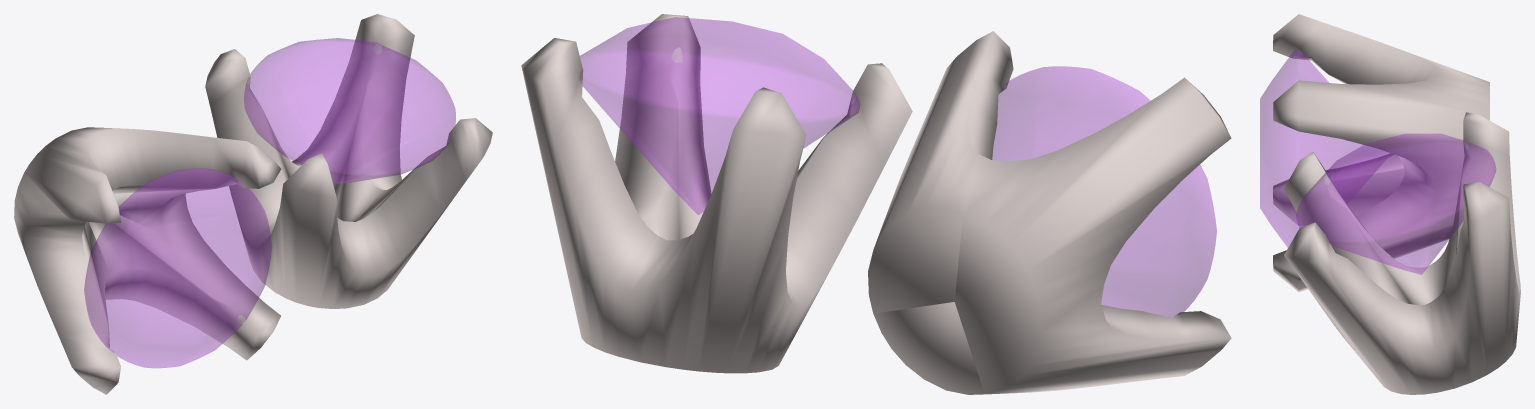
File: amethyst-earring.glb
3 renders of one model, left to right at view 1: azimuth 30°, elevation 25°; view 2: azimuth 150°, elevation 25°; view 3: azimuth 270°, elevation 25°, orthographic. The views are drawn at different scales.
Visible parts, largest first — view 1: stevenuntitled.002, stevenuntitled.001, cruz.022, cruz.023; view 2: stevenuntitled.001, stevenuntitled.002, cruz.023, cruz.022; view 3: stevenuntitled.001, stevenuntitled.002, cruz.023, cruz.022.
Part boxes in pixels (x1,y1,x2,y2): stevenuntitled.002: (14,127,281,394); stevenuntitled.001: (205,14,492,308); cruz.022: (84,168,271,367); cruz.023: (244,38,455,183); stevenuntitled.001: (521,14,912,373); stevenuntitled.002: (868,31,1231,394); cruz.023: (579,17,859,214); cruz.022: (992,66,1216,317); stevenuntitled.001: (1284,112,1520,394); stevenuntitled.002: (1273,14,1489,292); cruz.023: (1296,134,1495,274); cruz.022: (1260,50,1390,247).
Size of the model in its own units: 1 by 0.5288 by 0.5427.
